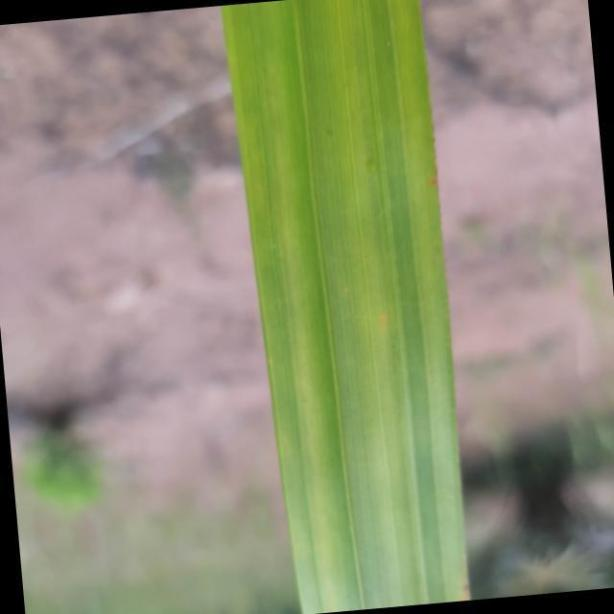nitrogen: (220, 0, 473, 612)
